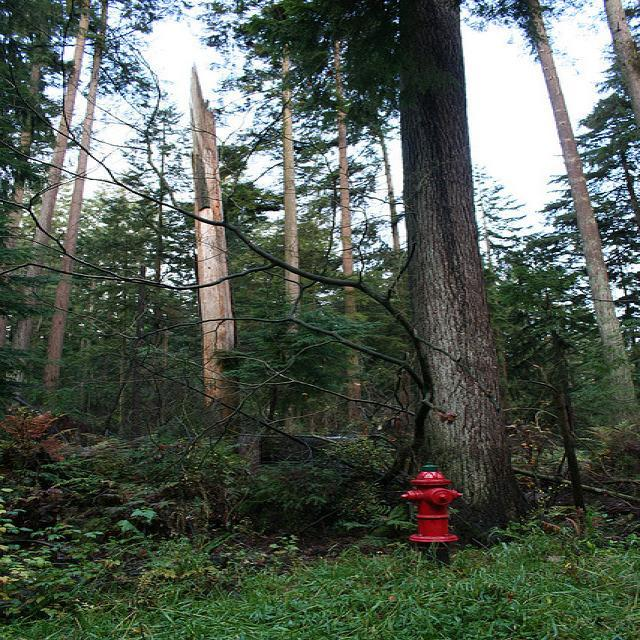fire_hydrant: (398, 459, 462, 542)
